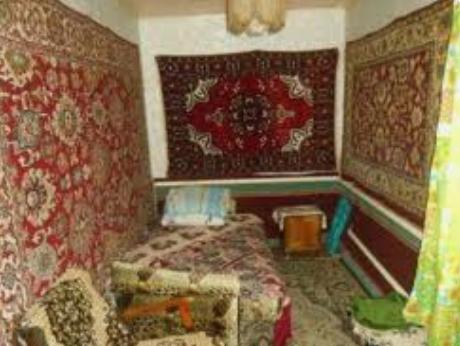carpet: (0, 2, 151, 344), (159, 50, 342, 180), (273, 248, 367, 345)
